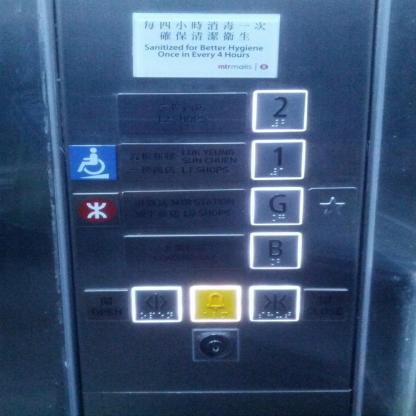1: (252, 138, 306, 181)
2: (253, 89, 308, 132)
B: (250, 231, 301, 270)
CH: (66, 145, 116, 183)
G: (249, 186, 303, 226)
alarm: (189, 286, 242, 323)
close: (248, 284, 300, 323)
keyhole: (190, 328, 238, 362)
open: (130, 286, 184, 322)
s: (307, 186, 360, 227)
